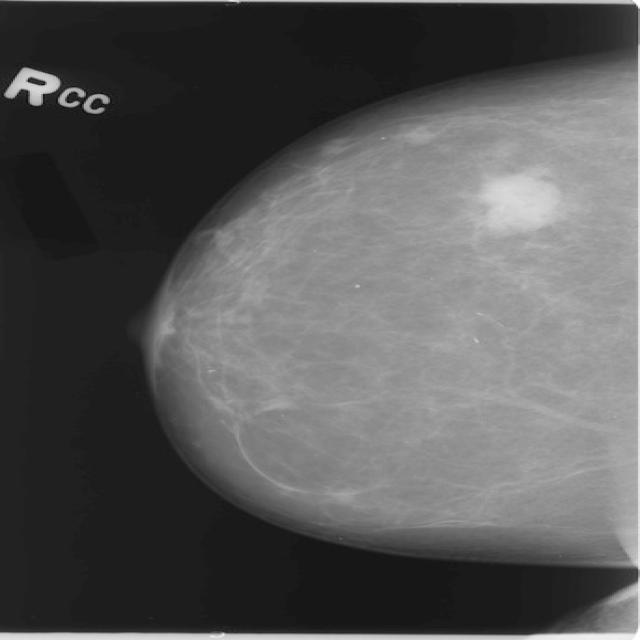tumour: (476, 172, 560, 234)
